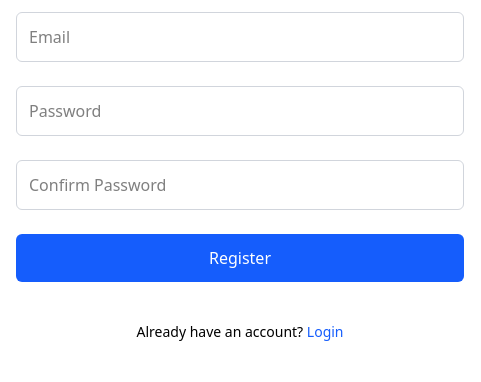
Test: RegisterForm › shows validation error for password less than 6 characters
The width and height of the screenshot is (481, 382).
Step 1. Type "12345" into the password field with placeholder "Password" → (240, 111), box left=16, top=86, right=464, bottom=136
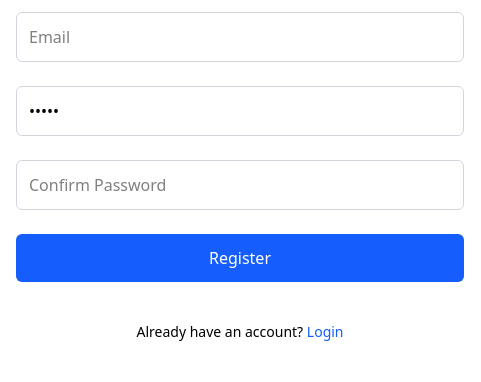
Step 2. Leave the password field with placeholder "Password", box left=16, top=86, right=464, bottom=136
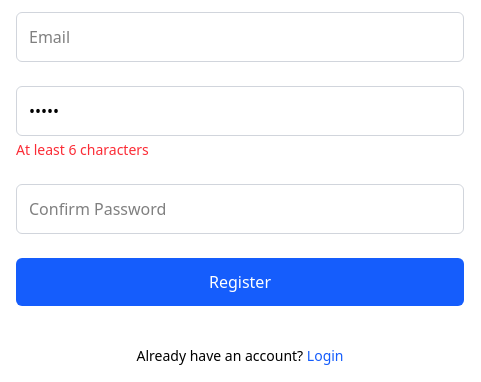
Expected: the text "At least 6 characters" is shown, left=16, top=140, right=149, bottom=159
